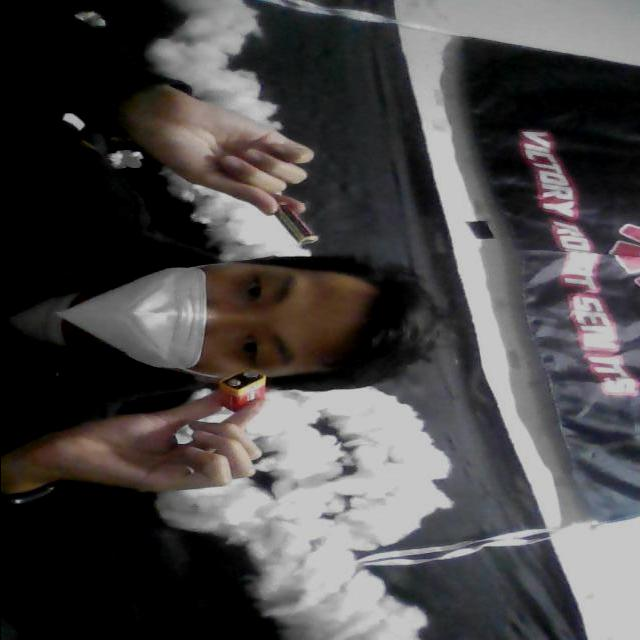9V: (198, 366, 278, 420)
AA: (258, 192, 332, 257)
